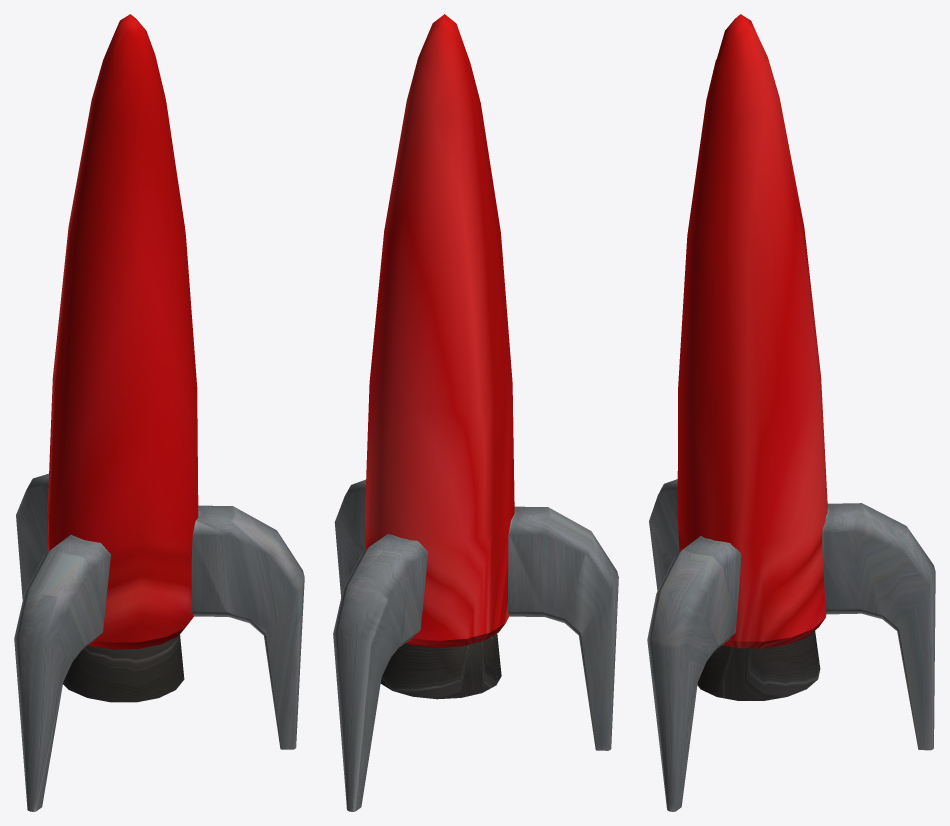
File: colony-rocket-art.glb
The picture shows the model from 3 angles, left to right: view 1: azimuth 30°, elevation 25°; view 2: azimuth 150°, elevation 25°; view 3: azimuth 270°, elevation 25°; orthographic projection.
Visible parts, largest first — view 1: Colony_Rocket_Art; view 2: Colony_Rocket_Art; view 3: Colony_Rocket_Art.
Boxes of the visible parts, x1,y1,x2,y2 form: Colony_Rocket_Art: (14,14,304,811); Colony_Rocket_Art: (333,14,618,811); Colony_Rocket_Art: (647,14,935,811).
Bounding box in the file's own units: 2.05 × 5.13 × 1.83.
1 material, 1 textured.
